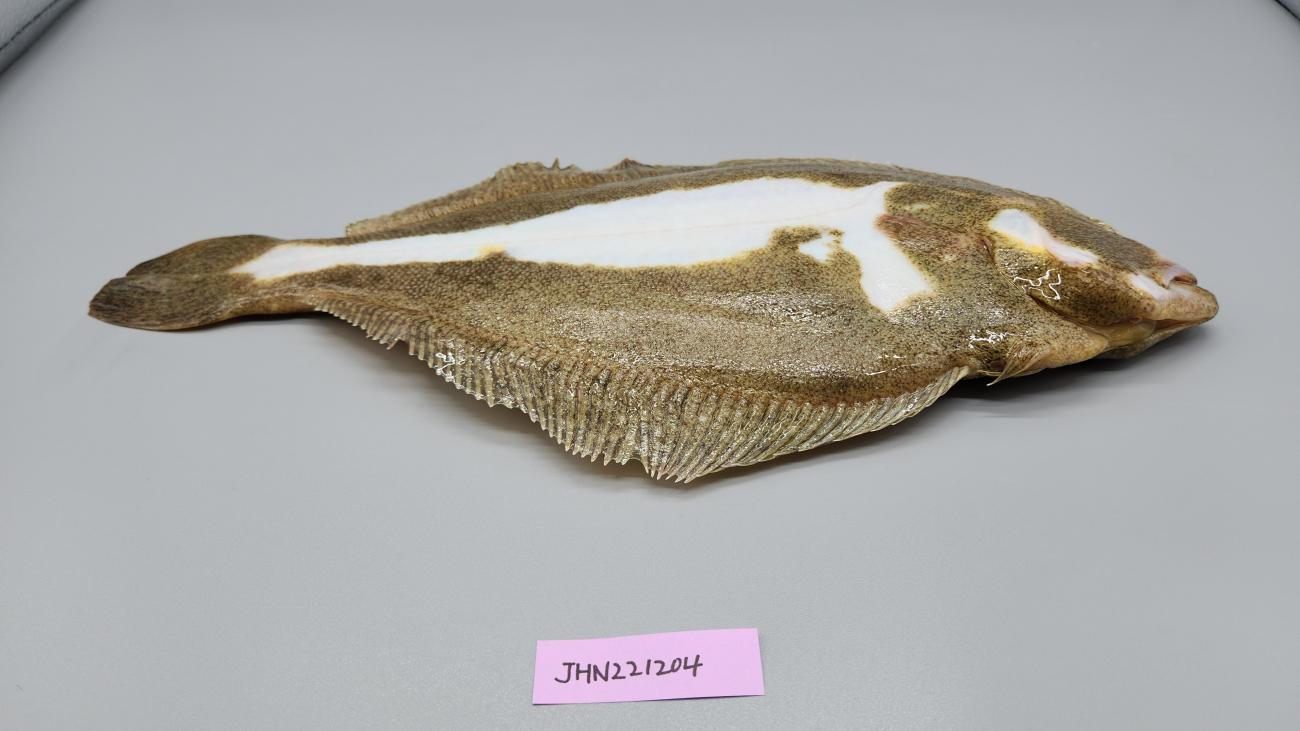POOUN: (28, 50, 396, 158)
